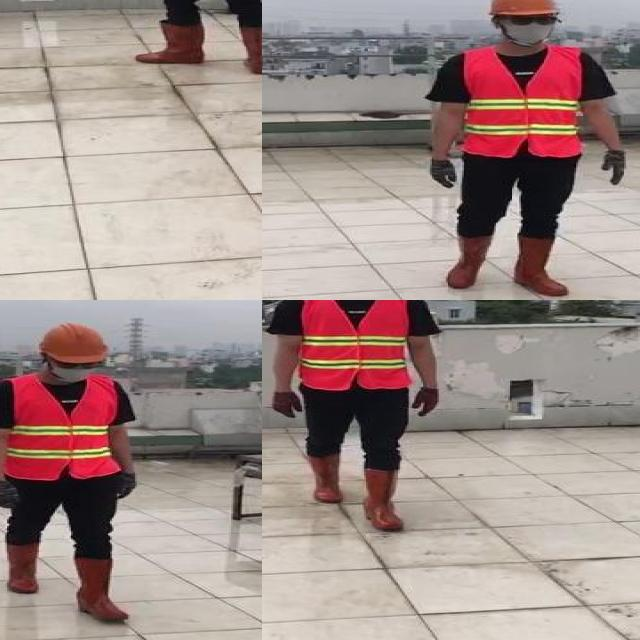boots: (71, 556, 130, 624), (514, 235, 572, 297), (361, 466, 407, 532), (136, 22, 205, 64), (446, 232, 496, 289), (6, 540, 44, 594), (306, 454, 344, 504), (233, 23, 262, 75)
face_mask: (492, 13, 562, 46), (50, 356, 104, 382)
glasses: (50, 356, 106, 373), (503, 12, 558, 29)
hand_glove: (426, 158, 458, 190), (599, 150, 626, 184), (272, 388, 302, 417), (412, 387, 441, 417), (114, 472, 140, 503), (0, 479, 19, 509)
head_helmet: (35, 320, 112, 364), (483, 0, 561, 19)
person: (413, 0, 637, 299), (0, 316, 154, 629), (262, 300, 450, 540), (129, 0, 262, 79)
vest: (461, 47, 583, 156), (3, 377, 122, 479), (298, 300, 413, 390)
